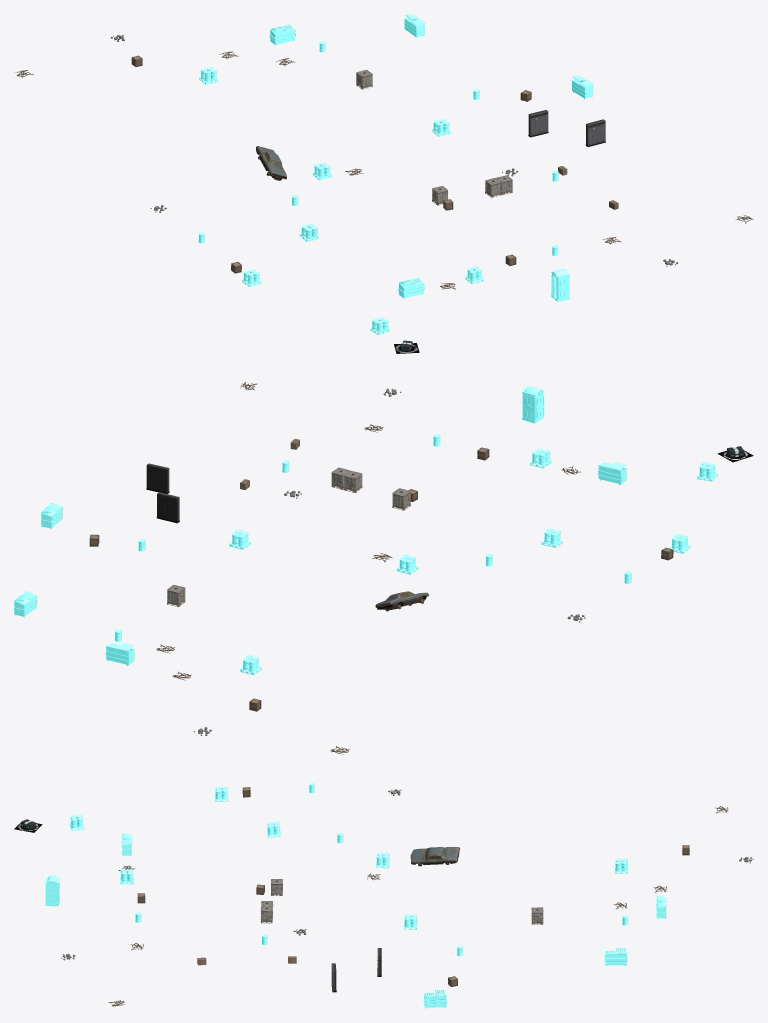
The model's file is FACTORY.fbx.
3 renders of one model, top to bottom at view 1: azimuth 30°, elevation 25°; view 2: azimuth 150°, elevation 25°; view 3: azimuth 270°, elevation 25°, orthographic. The views are drawn at different scales.
Parts seen in each view (by area): view 1: Common_OBJ_WreckCar_Blue, ItemBox_Biotoilet_01; view 2: ItemBox_Switchboard_01 (×2), ItemBox_Biotoilet_01, Common_OBJ_WreckCar_Blue; view 3: Common_OBJ_WreckCar_Blue, ItemBox_Biotoilet_01.
Part boxes in pixels (x1,y1,x2,y2): Common_OBJ_WreckCar_Blue: (256, 146, 286, 180); ItemBox_Biotoilet_01: (551, 269, 570, 301); ItemBox_Switchboard_01 (×2): (146, 463, 179, 523); ItemBox_Biotoilet_01: (522, 386, 544, 423); Common_OBJ_WreckCar_Blue: (375, 591, 428, 611); Common_OBJ_WreckCar_Blue: (410, 847, 459, 866); ItemBox_Biotoilet_01: (45, 875, 59, 906).
Size of the model in its own units: 52.03 by 3.3 by 77.31.
